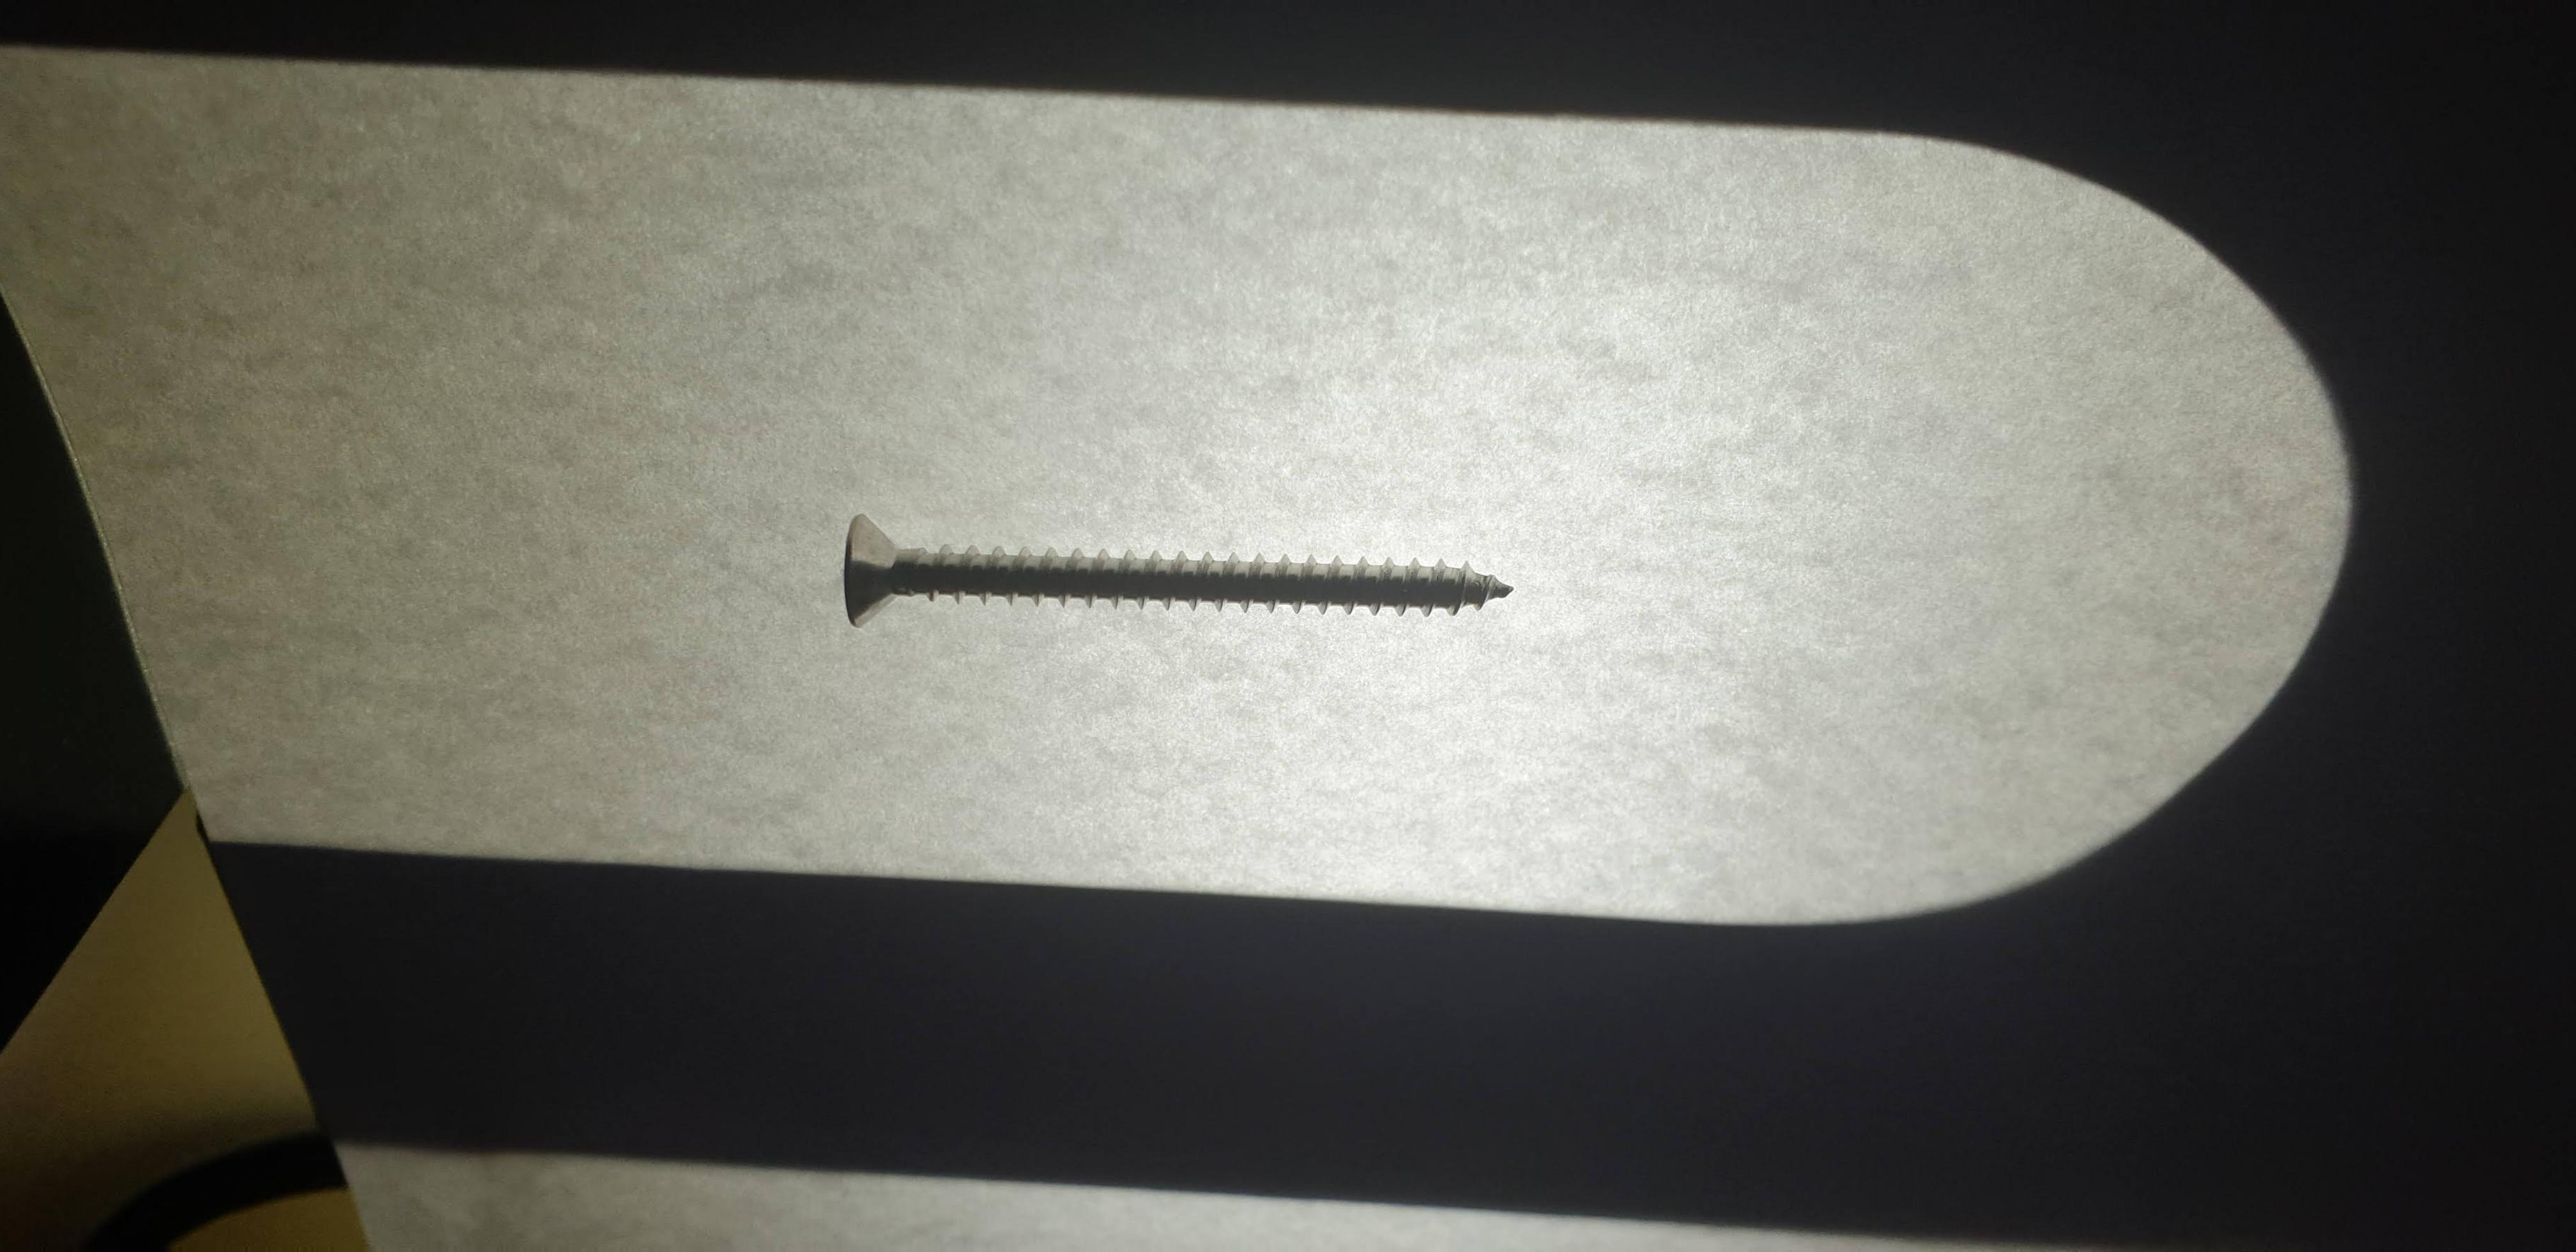S001: (803, 476, 1543, 669)
